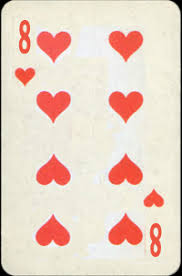eight of hearts: (3, 1, 177, 276)
